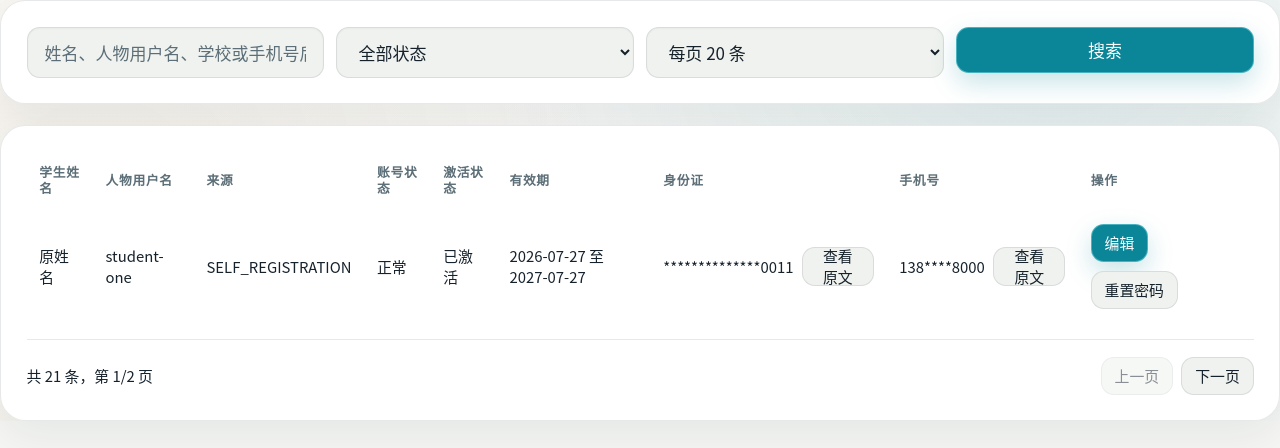
student account manager › loads search, status, and configurable pagination from the server
The width and height of the screenshot is (1280, 448).
Type "张三" into the field named "搜索学生" at (175, 52), box [26,26,324,78]
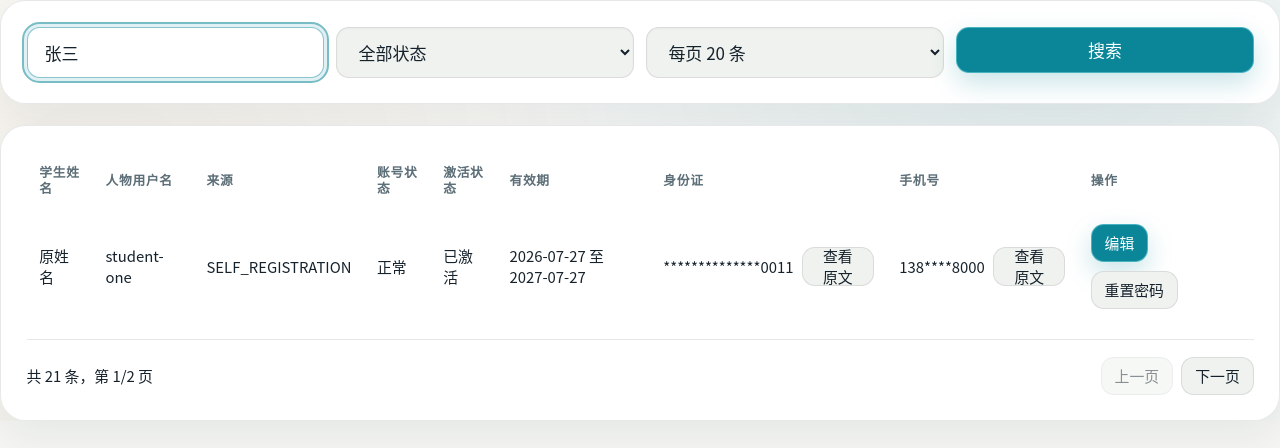
Click the button "搜索" at (1105, 50), box [956,26,1254,73]
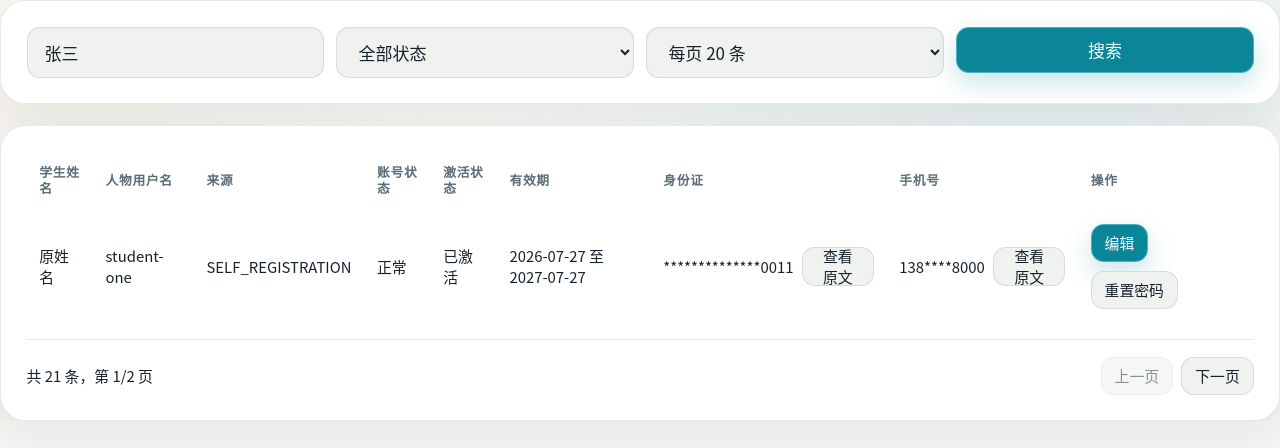
Select "正常" in the dropdown named "学生状态筛选" at (485, 52), box [336,26,634,78]
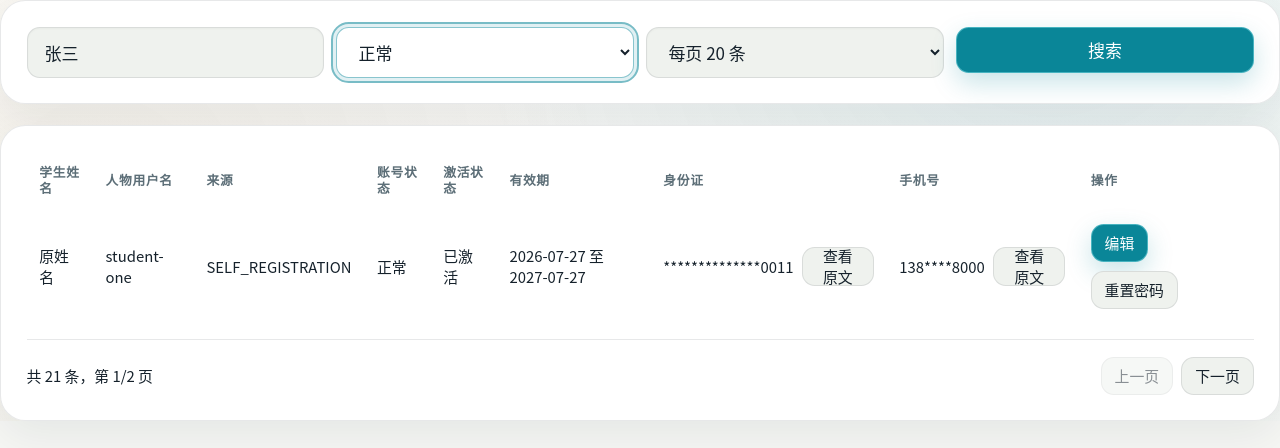
Select "每页 100 条" in the dropdown named "每页显示条数" at (795, 52), box [646,26,944,78]
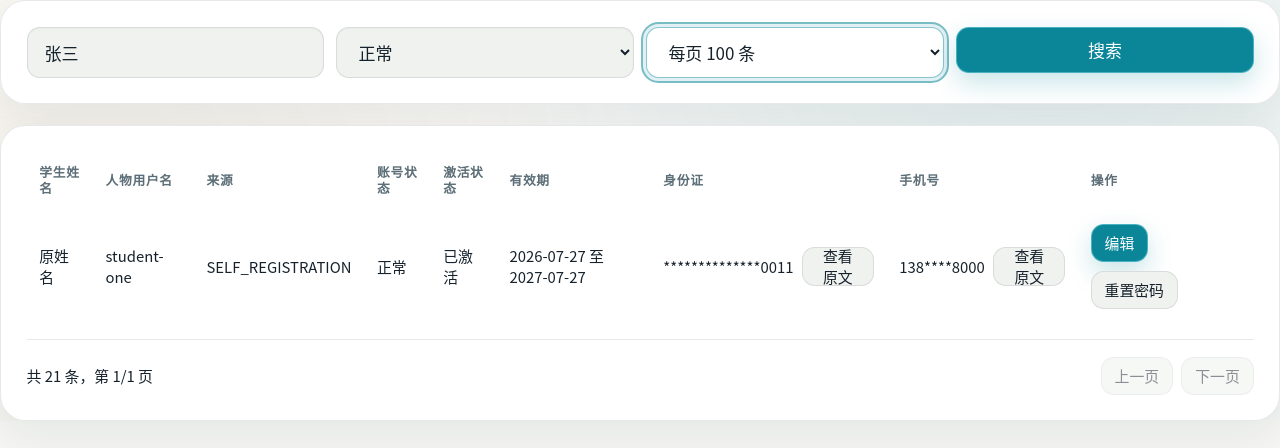
Now the button "下一页" is disabled, box [1181,357,1254,395]
